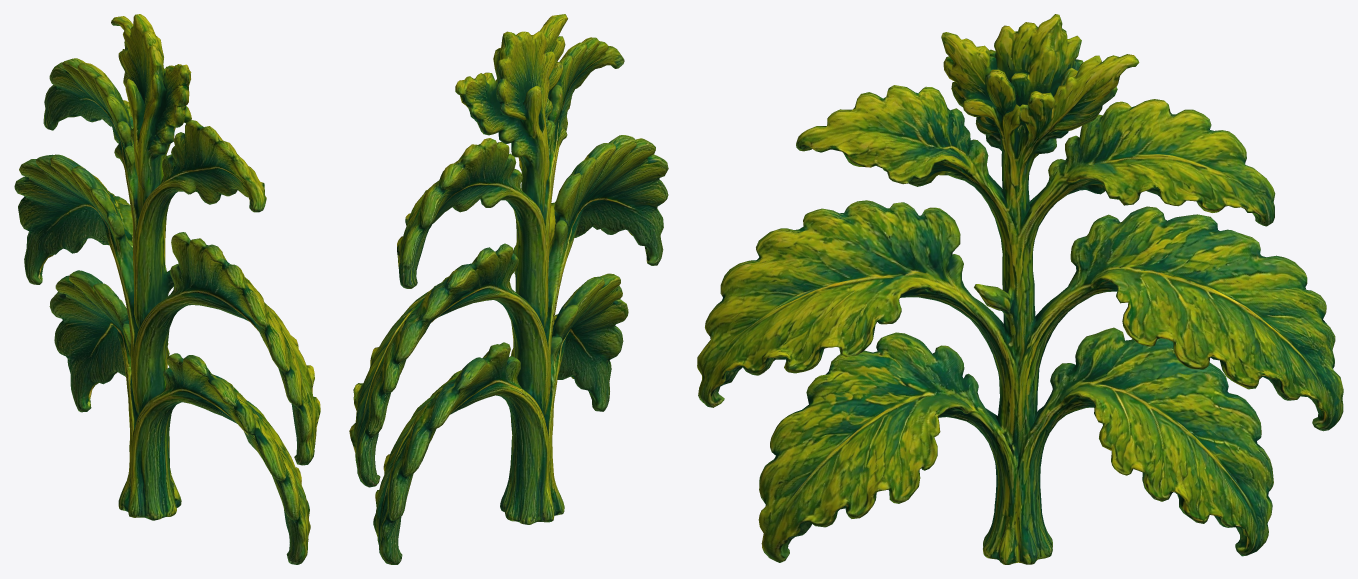
The model's file is green+plant+3d+model+1k.glb.
3 renders of one model, left to right at view 1: azimuth 30°, elevation 25°; view 2: azimuth 150°, elevation 25°; view 3: azimuth 270°, elevation 25°, orthographic. The views are drawn at different scales.
Visible parts, largest first — view 1: tripo_node_97de446c-3641-4dbc-b968-b4fc4d848d58; view 2: tripo_node_97de446c-3641-4dbc-b968-b4fc4d848d58; view 3: tripo_node_97de446c-3641-4dbc-b968-b4fc4d848d58.
Part boxes in pixels (x1,y1,x2,y2): tripo_node_97de446c-3641-4dbc-b968-b4fc4d848d58: (14,14,320,564); tripo_node_97de446c-3641-4dbc-b968-b4fc4d848d58: (349,14,668,564); tripo_node_97de446c-3641-4dbc-b968-b4fc4d848d58: (697,14,1343,564).
Size of the model in its own units: 0.1967 by 0.9207 by 1.
Materials: 1 (1 with a texture image).
